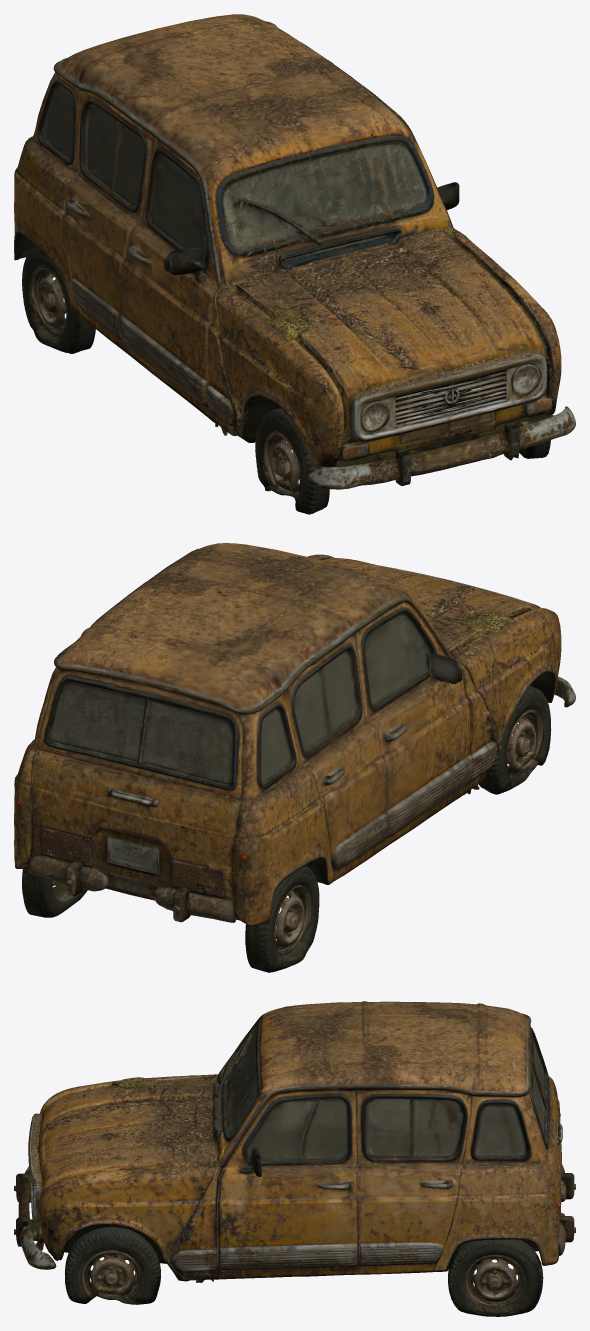
The model's file is reno4.glb.
3 renders of one model, top to bottom at view 1: azimuth 30°, elevation 25°; view 2: azimuth 150°, elevation 25°; view 3: azimuth 270°, elevation 25°, orthographic. The views are drawn at different scales.
Visible parts, largest first — view 1: Reno4; view 2: Reno4; view 3: Reno4.
Boxes of the visible parts, left/top/right/bottom form: Reno4: left=14, top=14, right=575, bottom=514; Reno4: left=14, top=543, right=575, bottom=972; Reno4: left=14, top=1001, right=575, bottom=1316.
Size of the model in its own units: 1.84 by 1.71 by 3.7.
1 material, 1 textured.
